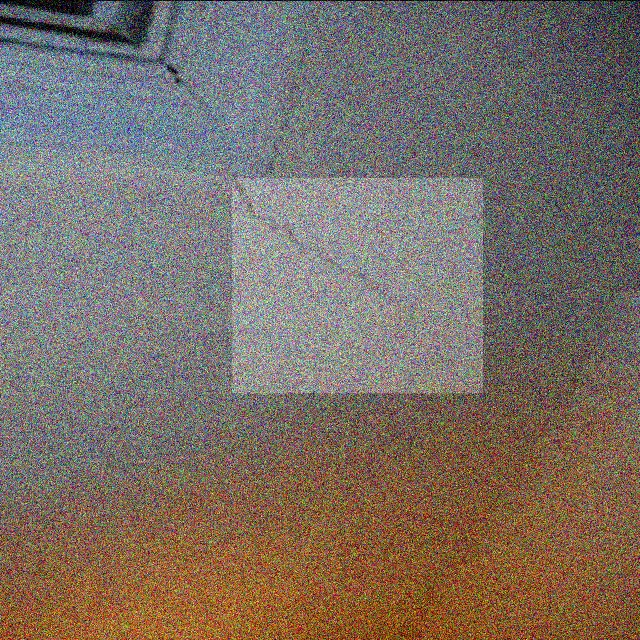SurfaceCrack: (146, 180, 500, 410)
